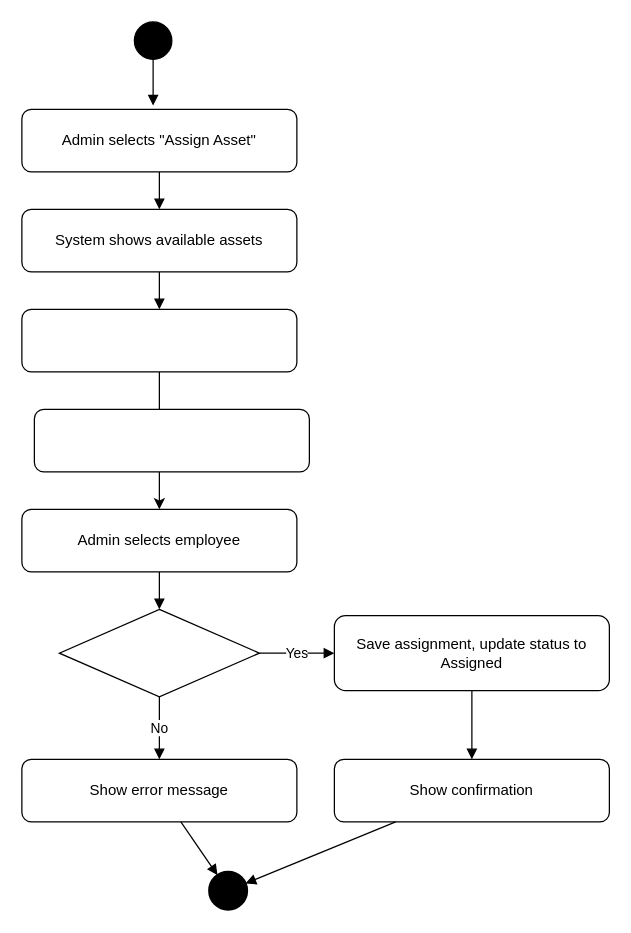
Image size: 631x933. Some labels were removed from this diagram. The shapes that lost their labels are listed below. From the top down, each one's centre as x and y in pixels, then its label:
At pixel 159 340: "Admin selects an asset".
At pixel 171 440: "System shows employee list".
At pixel 158 652: "Asset Available?".
